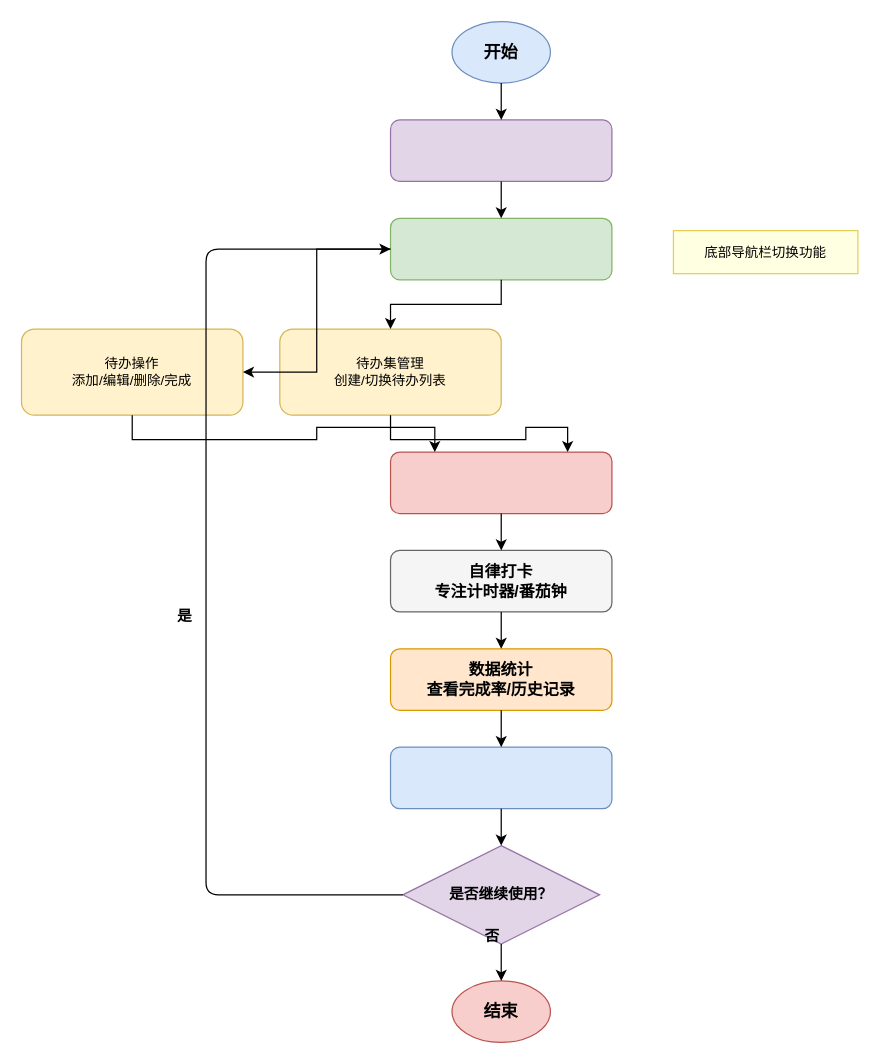
Image size: 879x1064. Some labels were removed from this diagram. The box of each missing label's shape, as (x1, y1, x2, y2) in pixels:
个人中心 设置/退出登录: (389, 746, 612, 809)
日程管理 查看日历/添加日程: (389, 451, 612, 514)
用户登录/注册: (389, 119, 612, 181)
首页-待办事项: (389, 217, 612, 280)
